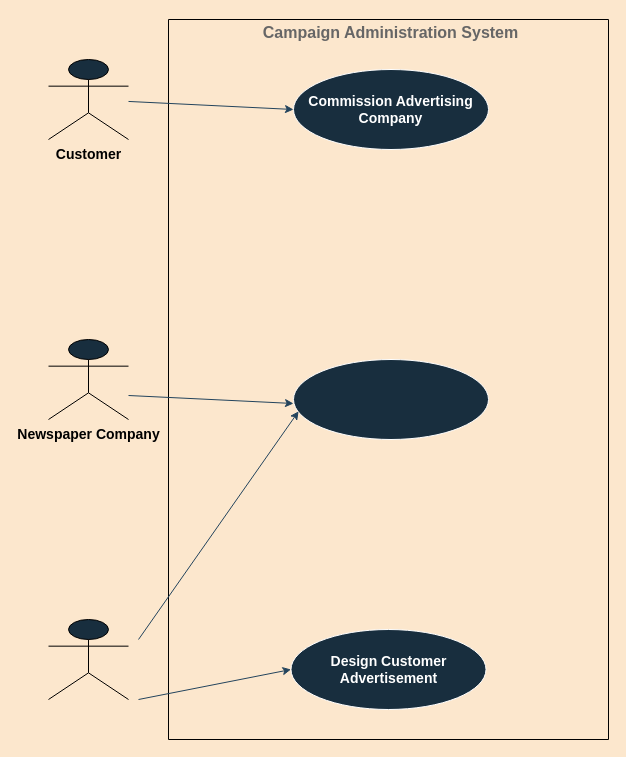
Image size: 626x757. Some labels were removed from this diagram. The shapes that lost their labels are listed below. From the top down, each one's box as (x1, y1, x2, y2) in pixels, then its label:
(292, 358, 488, 440): Run Advertising Campaign
(48, 618, 128, 700): Technical Staff
